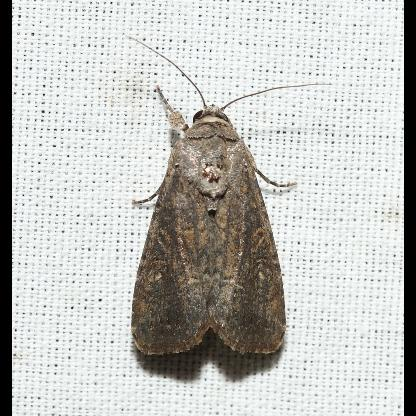Fall Armyworm Moth: (128, 34, 336, 360)
